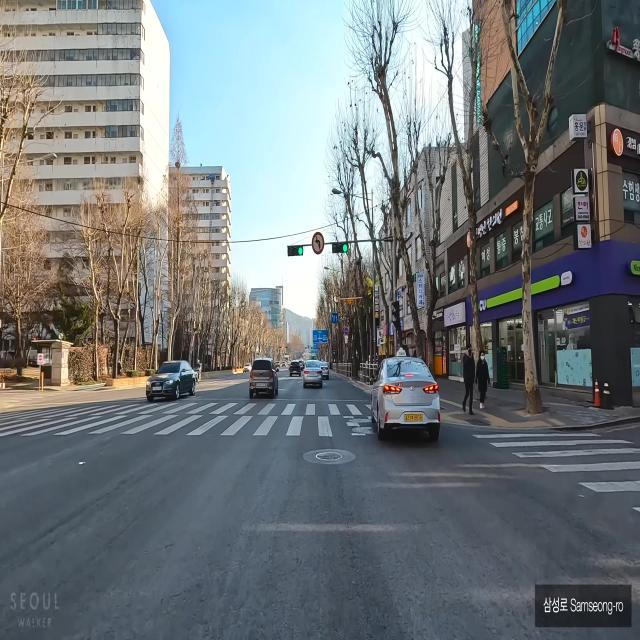Green Light: (343, 243, 348, 253), (298, 248, 303, 256)
